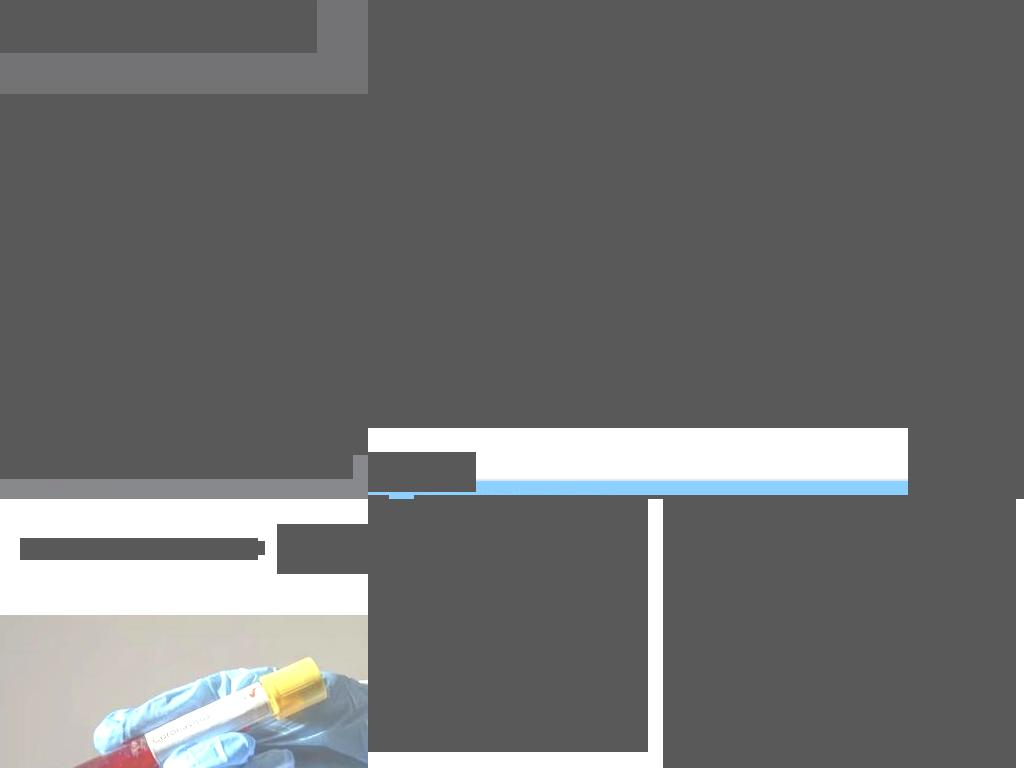button: (663, 499, 1016, 768), (368, 499, 648, 752), (277, 524, 368, 574), (629, 65, 679, 116), (277, 538, 368, 559)
heading: (663, 629, 1006, 714), (368, 0, 960, 42), (368, 629, 638, 686), (368, 342, 774, 375), (414, 495, 966, 499)
image: (368, 0, 1024, 409), (0, 94, 368, 452), (0, 615, 368, 768), (663, 499, 1016, 606), (908, 193, 1024, 499), (368, 499, 648, 606), (939, 239, 1024, 499), (368, 452, 476, 492), (629, 65, 679, 116), (0, 342, 16, 366)
link: (143, 541, 265, 555)
text: (0, 388, 368, 455), (368, 392, 908, 428), (663, 716, 1006, 768), (368, 688, 638, 752), (0, 0, 317, 53), (0, 436, 353, 479), (368, 162, 960, 184), (368, 139, 960, 158), (20, 538, 258, 560), (99, 436, 206, 455), (239, 436, 335, 455), (35, 345, 121, 363), (205, 436, 240, 455)
